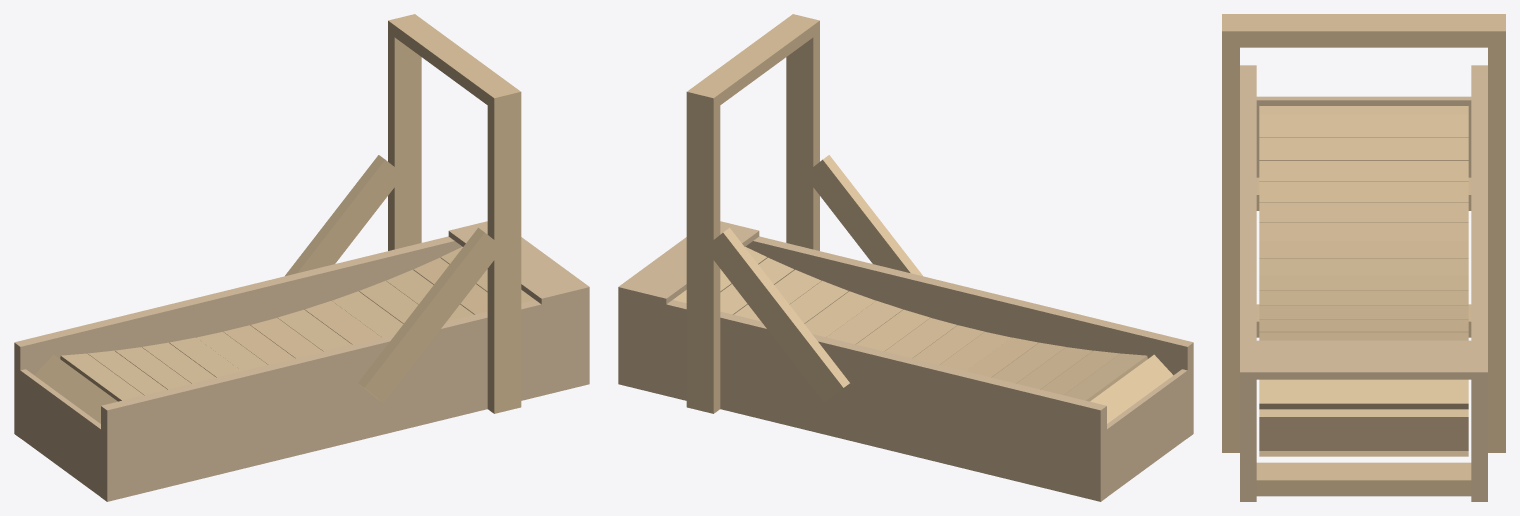
File: oiled.glb
3 renders of one model, left to right at view 1: azimuth 30°, elevation 25°; view 2: azimuth 150°, elevation 25°; view 3: azimuth 270°, elevation 25°, orthographic. The views are drawn at different scales.
Visible parts, largest first — view 1: rail.4, rail.2, upright.2, upright.1, upright_brace.2, back_guard.1, handrail.1, upright_brace.1, front_guard.1, slat.35, rail.1, rail.3 (+14 smaller); view 2: rail.1, rail.3, upright.1, upright.2, upright_brace.1, back_guard.1, handrail.1, upright_brace.2, front_guard.1, slat.35, rail.4, rail.2 (+14 smaller); view 3: front_guard.1, handrail.1, slat.17, tie_bar.3, upright.1, upright.2, slat.16, slat.1, slat.2, slat.3, slat.4, slat.5 (+15 smaller).
Part boxes in pixels (box(x1,y1,x2,y2)): rail.4: box(104, 293, 589, 501); rail.2: box(17, 238, 462, 438); upright.2: box(487, 104, 521, 413); upright.1: box(388, 33, 421, 250); upright_brace.2: box(358, 227, 503, 402); back_guard.1: box(20, 369, 100, 496); handrail.1: box(388, 14, 521, 110); upright_brace.1: box(285, 155, 403, 276); front_guard.1: box(448, 221, 589, 304); slat.35: box(34, 354, 117, 423); rail.1: box(14, 236, 450, 435); rail.3: box(101, 300, 537, 499); rail.1: box(618, 293, 1103, 501); rail.3: box(745, 238, 1190, 438); upright.1: box(686, 104, 720, 413); upright.2: box(786, 33, 819, 250); upright_brace.1: box(708, 227, 849, 402); back_guard.1: box(1107, 369, 1187, 496); handrail.1: box(686, 14, 819, 110); upright_brace.2: box(804, 155, 922, 276); front_guard.1: box(618, 221, 759, 304); slat.35: box(1090, 354, 1173, 423); rail.4: box(757, 236, 1193, 435); rail.2: box(670, 300, 1106, 499); front_guard.1: box(1240, 340, 1487, 379); handrail.1: box(1222, 14, 1505, 47); slat.17: box(1259, 409, 1468, 450); tie_bar.3: box(1256, 462, 1471, 496); upright.1: box(1488, 47, 1505, 452); upright.2: box(1222, 47, 1239, 452); slat.16: box(1259, 379, 1468, 409); slat.1: box(1259, 114, 1468, 137); slat.2: box(1259, 137, 1468, 160); slat.3: box(1259, 160, 1468, 181); slat.4: box(1259, 182, 1468, 202); slat.5: box(1259, 202, 1468, 222).
Size of the model in its own units: 1.6 by 1 by 0.61.
